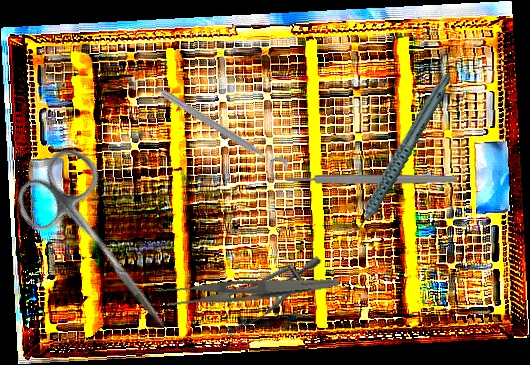Dressing Forceps: (152, 257, 342, 317)
Fixation Ring: (153, 85, 291, 183)
Handpiece: (316, 73, 481, 241)
Iris Scissors: (3, 138, 203, 355)
Scalpel Handle: (286, 174, 457, 184)
Speculum: (195, 218, 323, 358)
